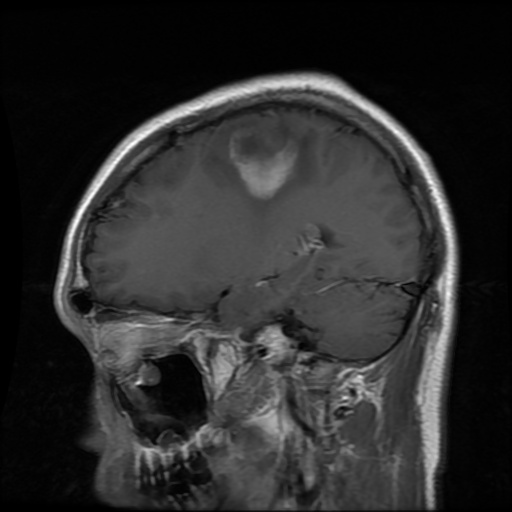glioma: (229, 116, 299, 200)
